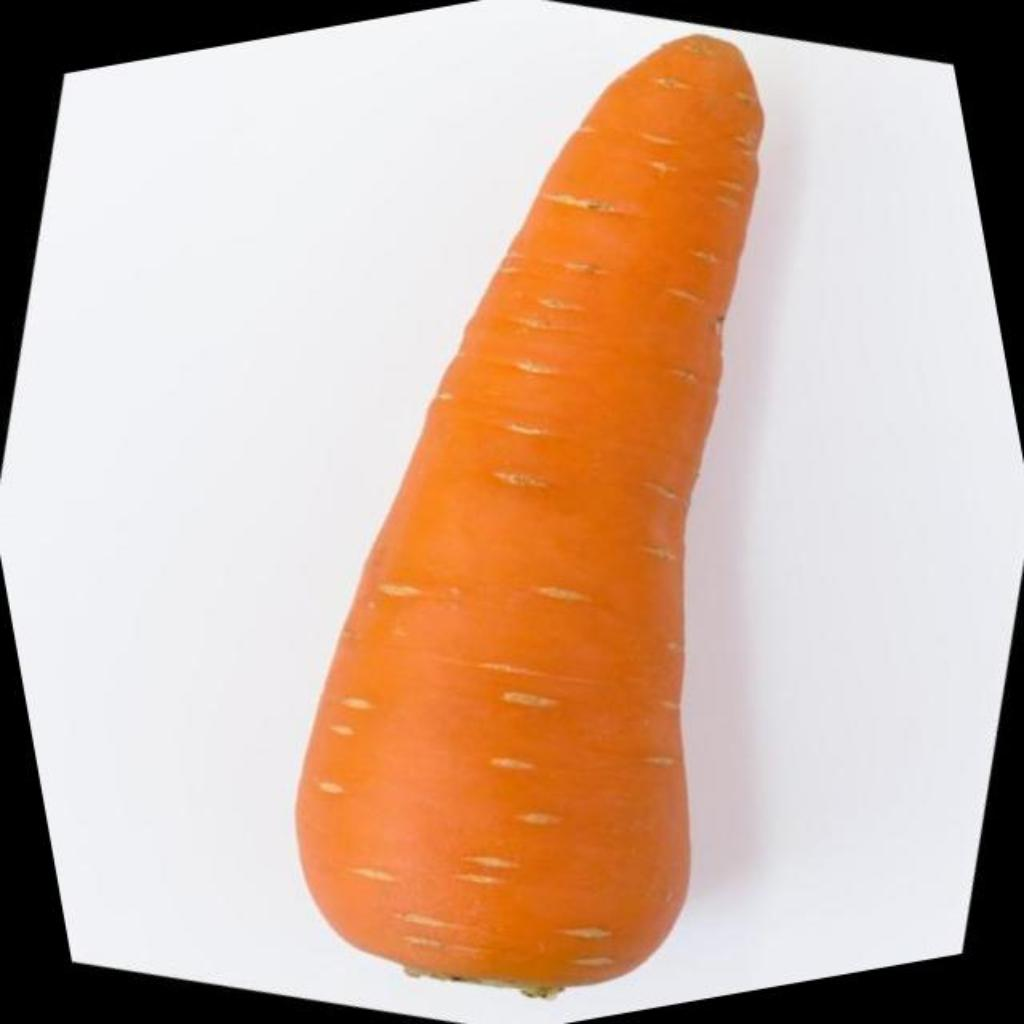carrot: (298, 36, 762, 991)
